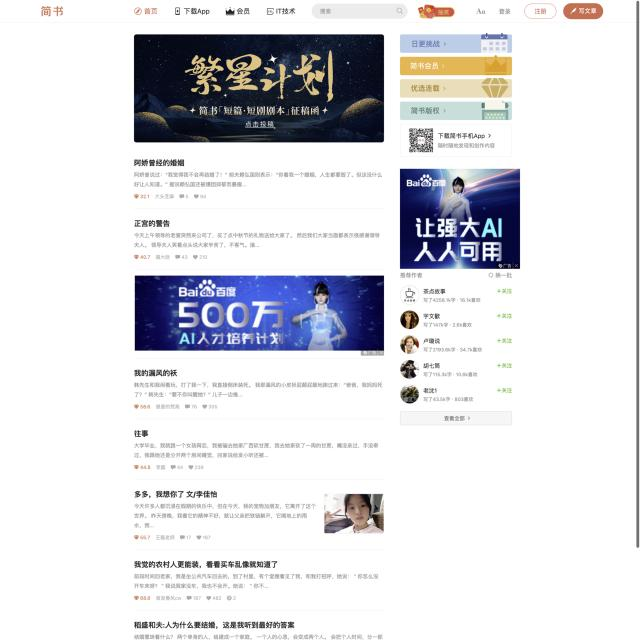input: (310, 2, 408, 20)
logo: (37, 4, 70, 20)
